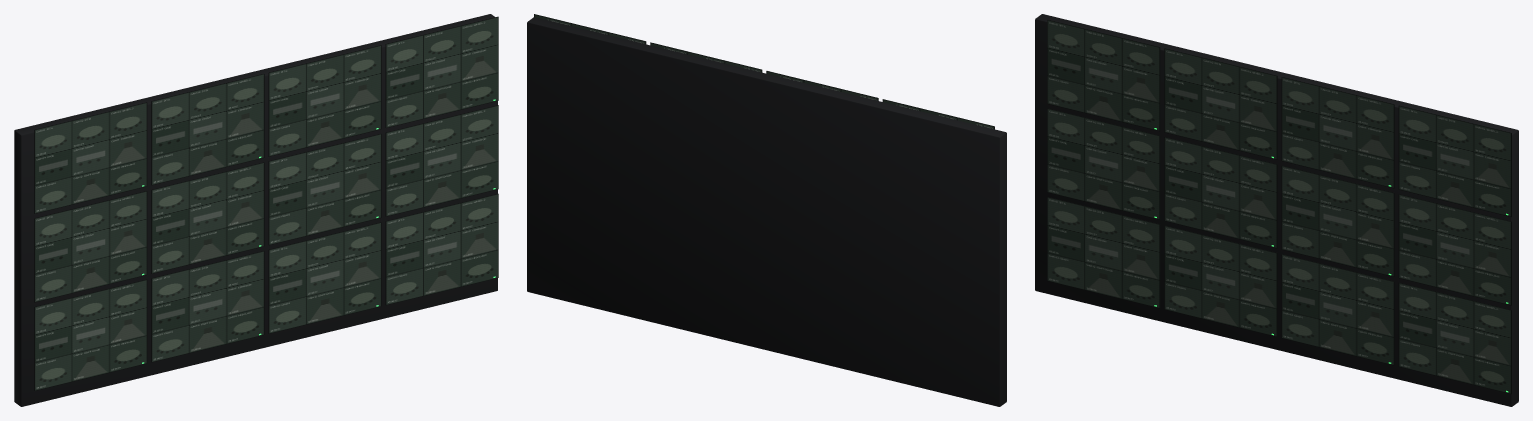
Rendered from tideline_monitor_wall.glb.
3 views of the same model, side by side, from view 1: azimuth 30°, elevation 25°; view 2: azimuth 150°, elevation 25°; view 3: azimuth 330°, elevation 25° (orthographic).
Parts seen in each view (by area): view 1: tideline_monitor_wall; view 2: tideline_monitor_wall; view 3: tideline_monitor_wall.
Boxes of the visible parts, x1,y1,x2,y2 form: tideline_monitor_wall: (14,14,498,406); tideline_monitor_wall: (527,14,1006,406); tideline_monitor_wall: (1035,14,1518,406).
Bounding box in the file's own units: 4.4 × 2.42 × 0.128.
Materials: 3 (1 with a texture image).
